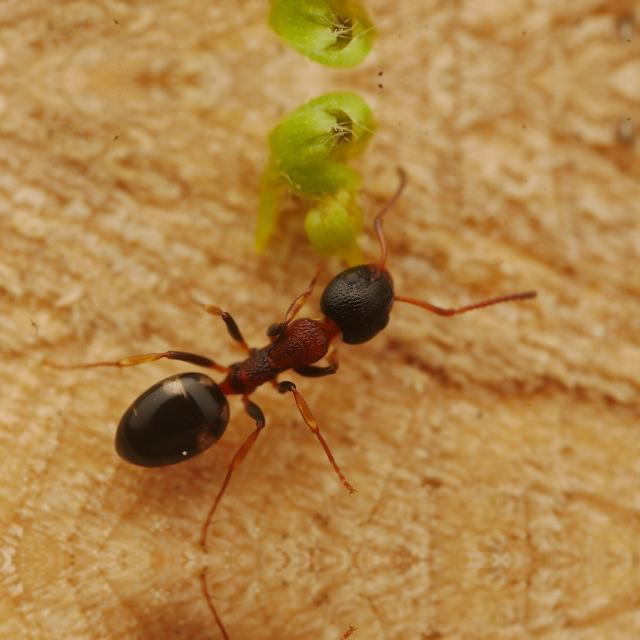Dolichoderus: (72, 232, 468, 490)
